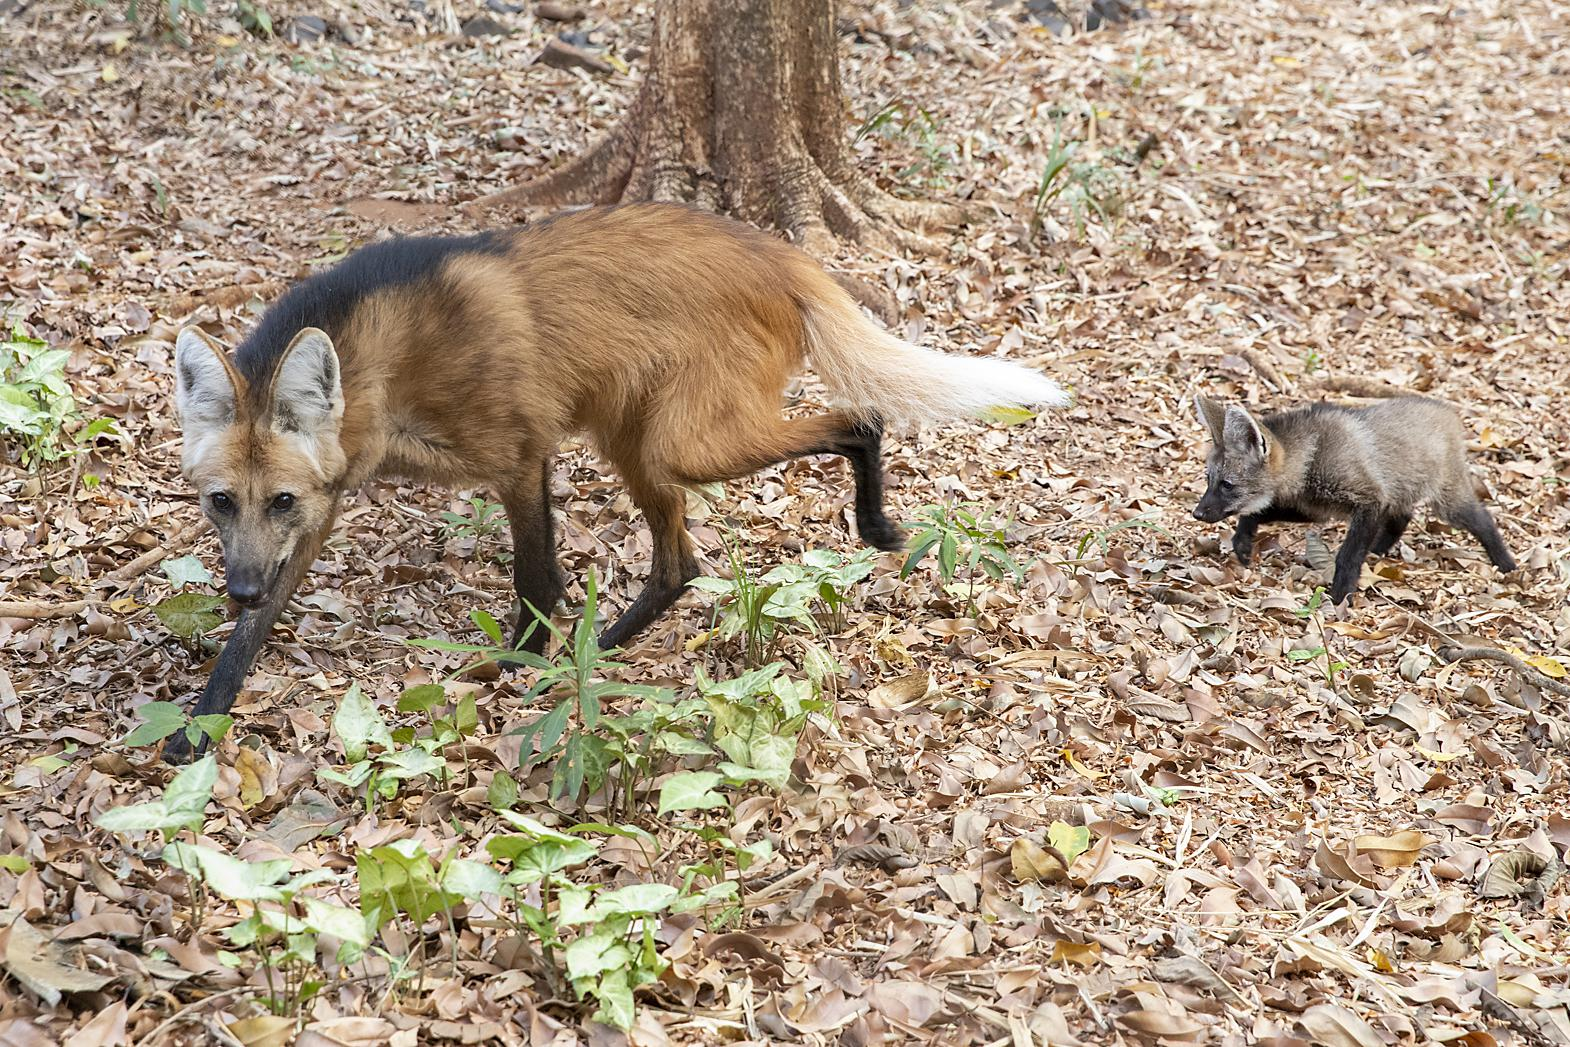LoboGuara: (93, 190, 1076, 770), (1166, 377, 1524, 599)
